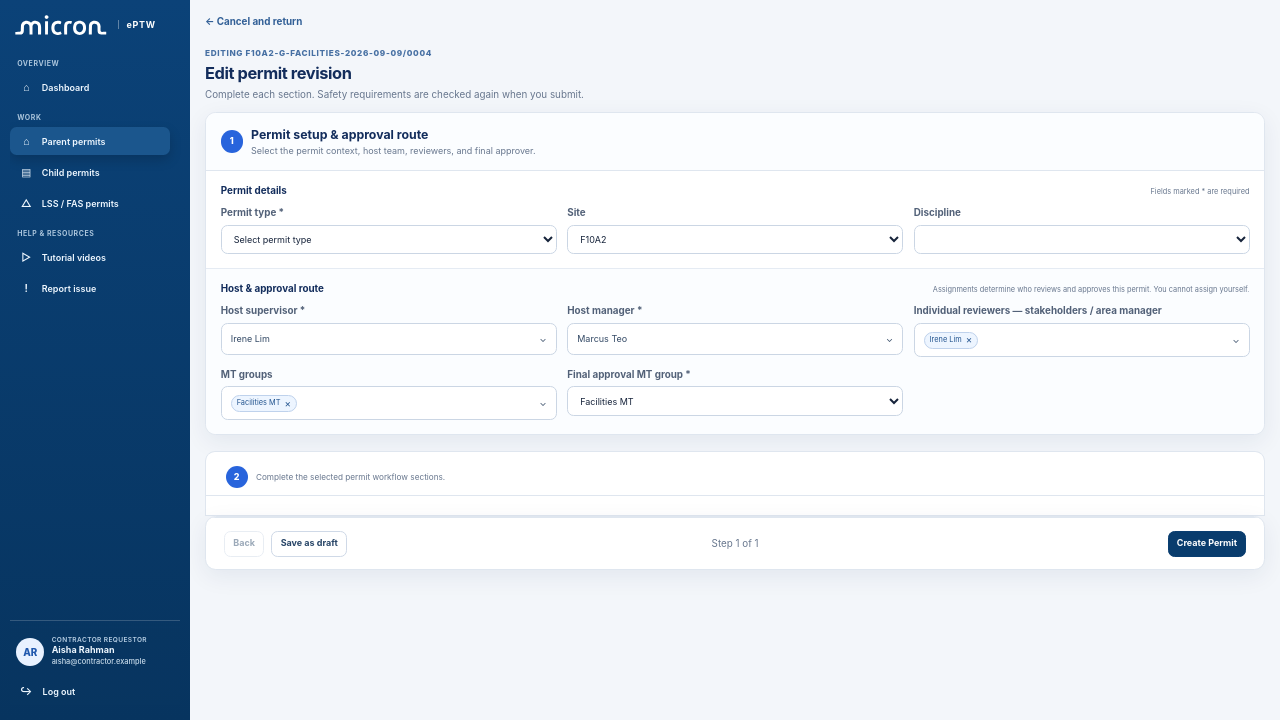
Test: application shell › lets the owner edit and save the draft permit setup and approval route
This screenshot has width=1280, height=720.
expect the heading "Permit setup & approval route" is shown: met, box [251,127,428,142]
expect the text "Host & approval route" is shown: met, box [221,282,324,296]
Select "F10N" in the dropdown labelled "Site" at x=735, y=240, box [567,225,903,254]
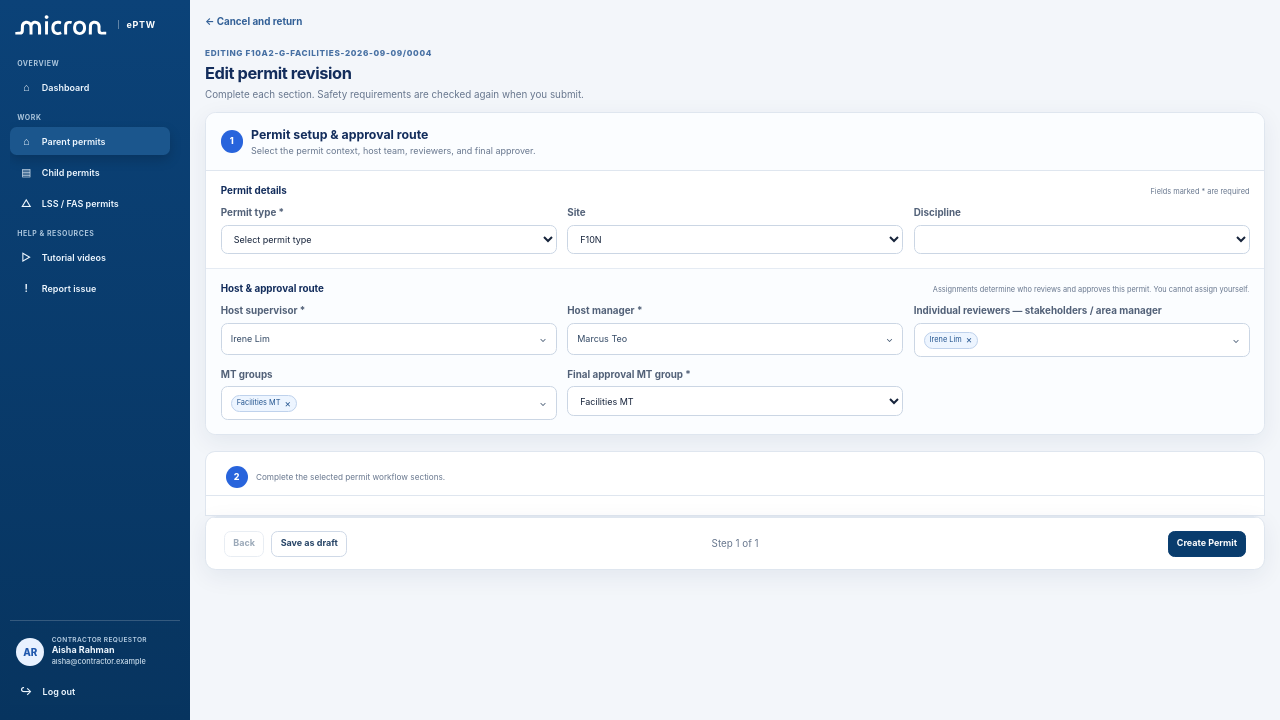
Click the heading named "Host supervisor *".
click(250, 338)  # box [221,323,556,355]
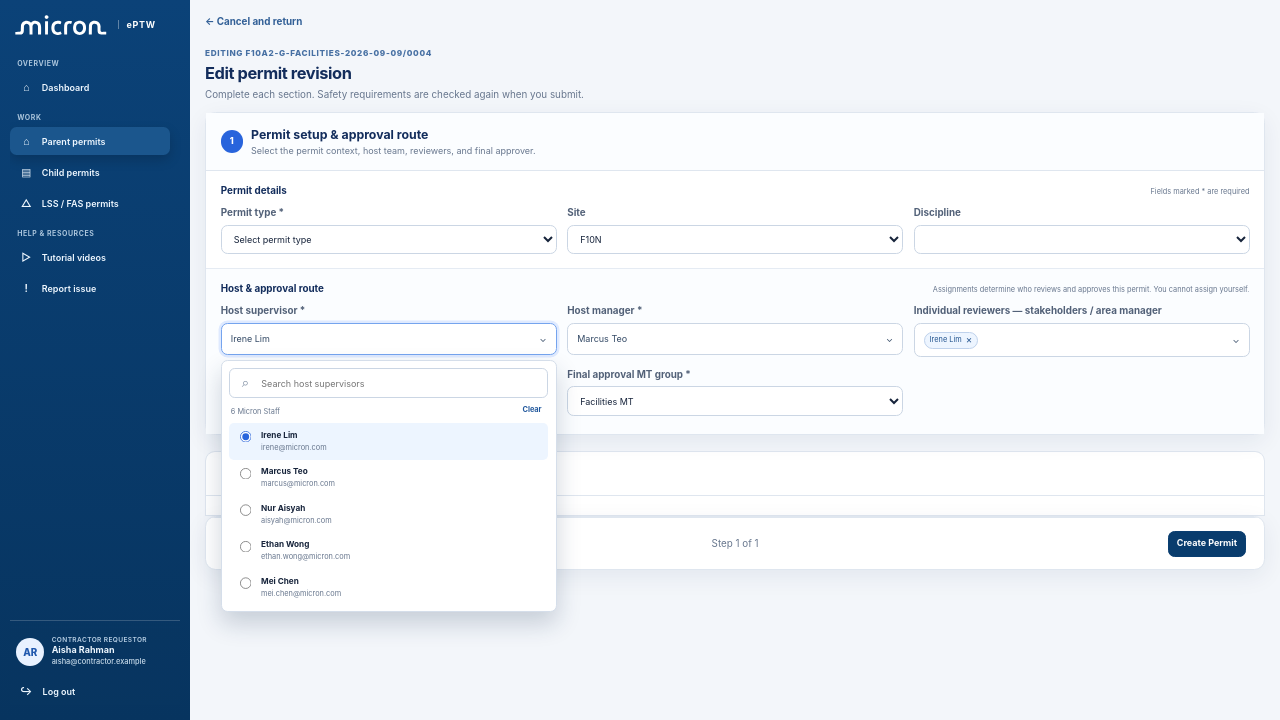
Click the radio button labelled "Marcus Teo marcus@micron.com".
click(246, 474)  # box [240,468,252,480]
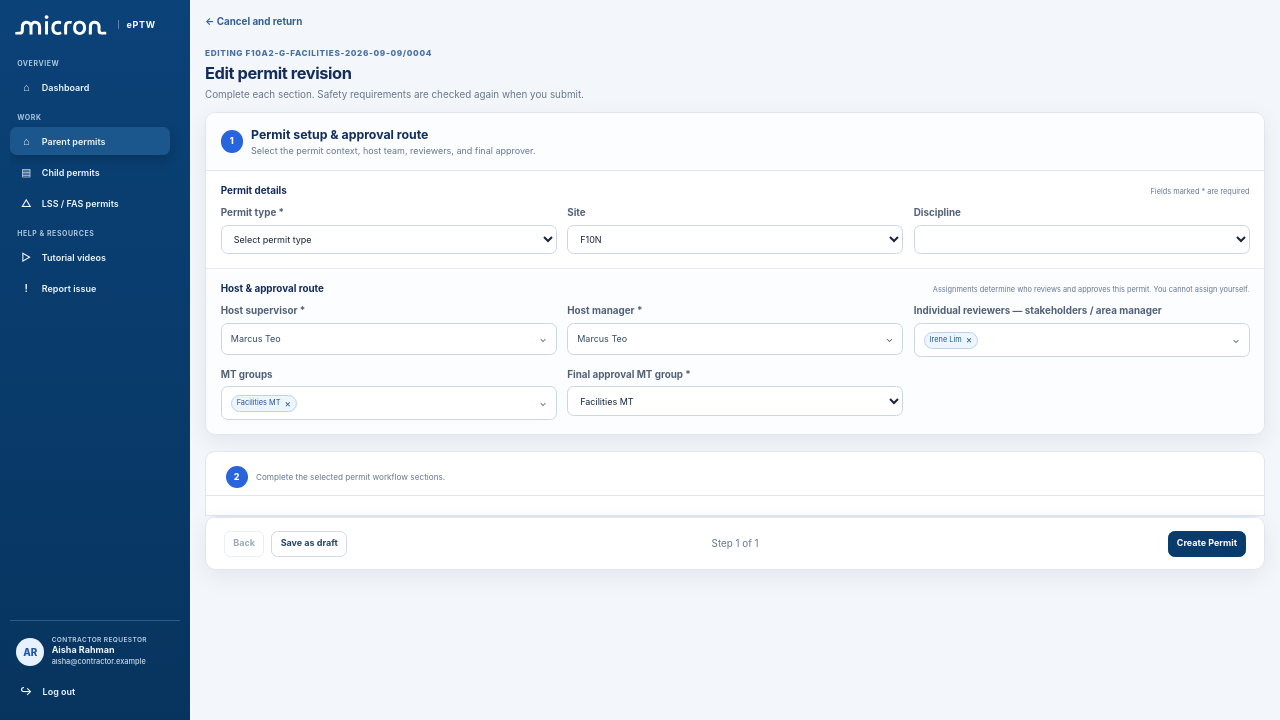
Click the button "Save as draft".
click(309, 544)  # box [272,530,347,557]
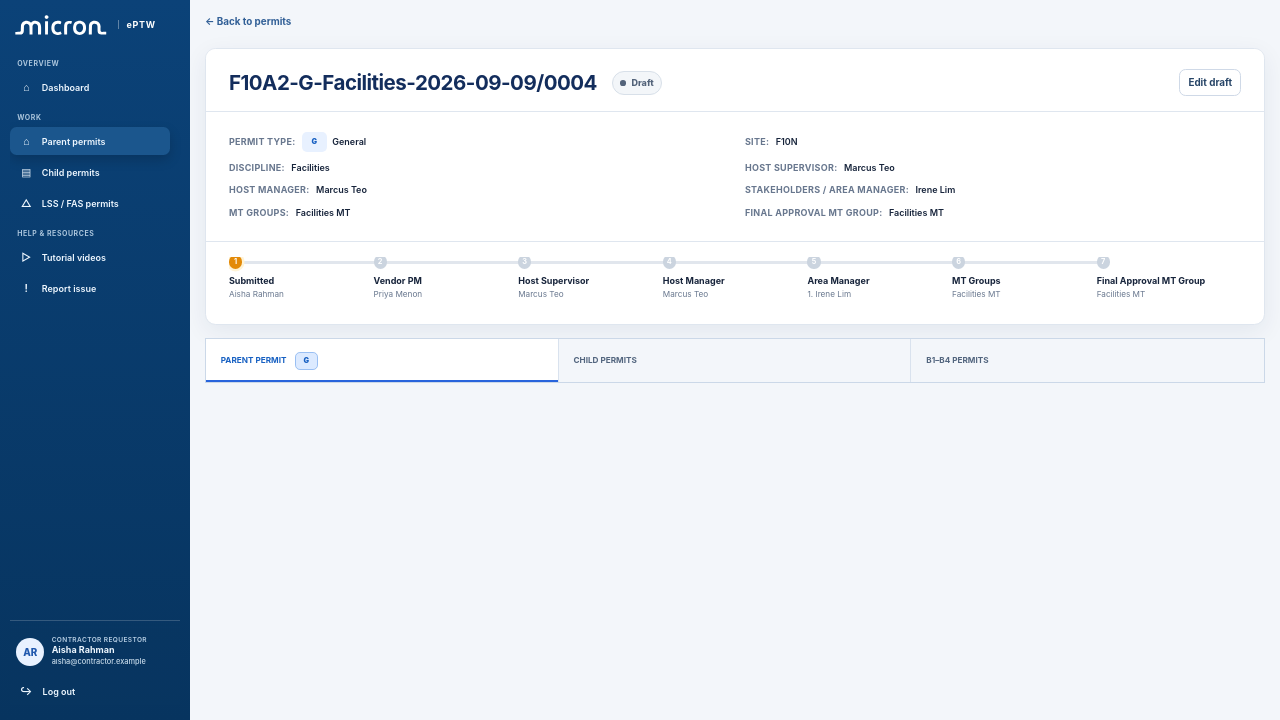
expect the text "F10N" is shown: met, box [776,136,798,148]
